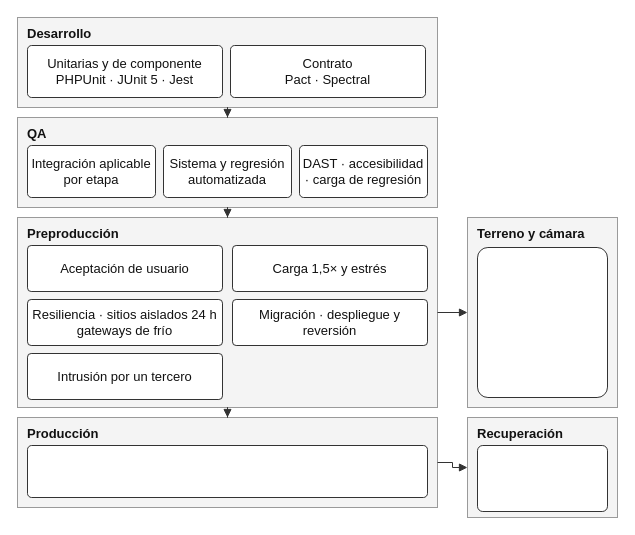
The diagram is 635 pixels wide and 535 high, and some of its shapes have lost their labels. The centre of each missing label's shape, as x and y in pixels:
"14 h sin señal −22 °C con guantes lluvia · sobre 34 °C sol directo · una mano" belongs at (x=542, y=322).
"Conmutación real nube y WMS Talca RTO ≤ 4 h RPO ≤ 15 min" belongs at (x=542, y=478).
"Marcha blanca: indicadores diarios" belongs at (x=227, y=471).
